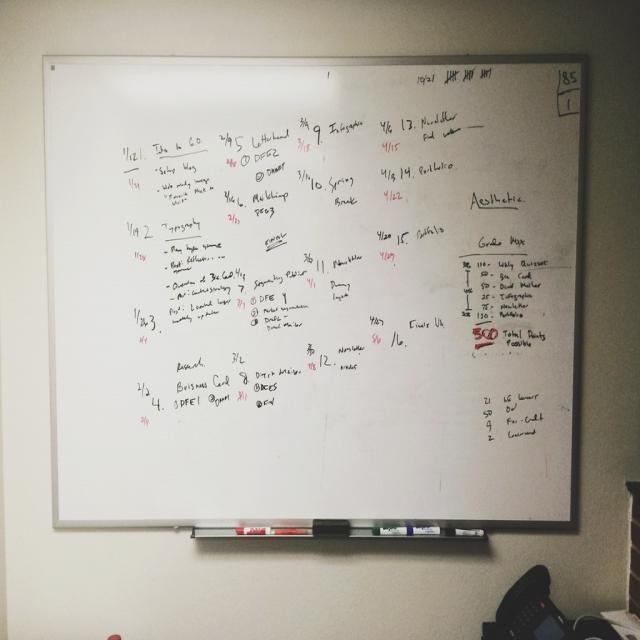Whiteboard: (40, 52, 590, 540)
